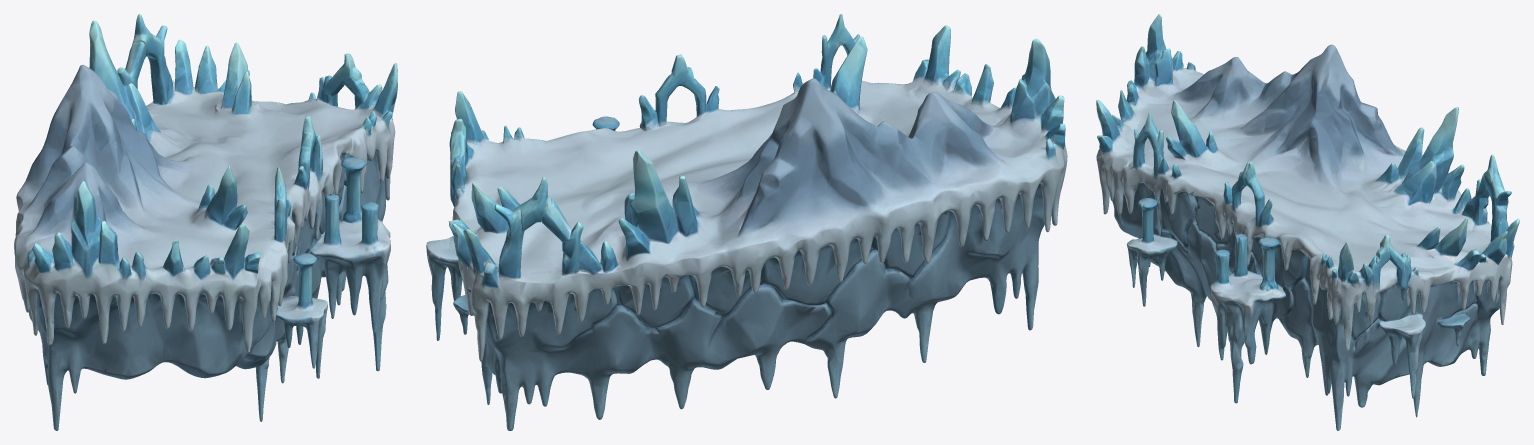
The model's file is ice.glb.
3 views of the same model, side by side, from view 1: azimuth 30°, elevation 25°; view 2: azimuth 150°, elevation 25°; view 3: azimuth 270°, elevation 25° (orthographic). The views are drawn at different scales.
Visible parts, largest first — view 1: vizcom_node_0; view 2: vizcom_node_0; view 3: vizcom_node_0.
Part boxes in pixels (x1,y1,x2,y2): vizcom_node_0: (14,14,397,430); vizcom_node_0: (426,14,1067,430); vizcom_node_0: (1096,14,1519,430).
Size of the model in its own units: 1.48 by 0.9998 by 1.42.
Materials: 1 (1 with a texture image).
